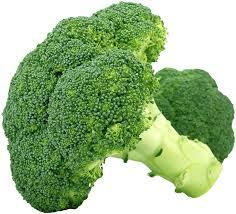non-mango: (0, 0, 235, 213)
